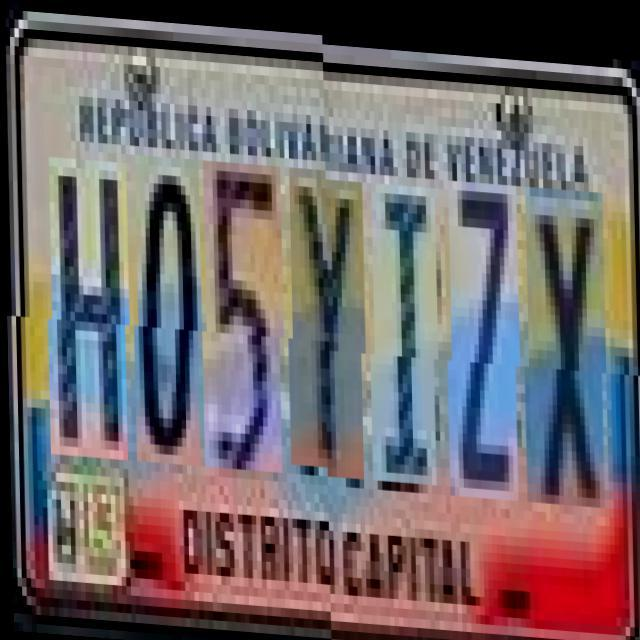5: (203, 167, 285, 478)
H: (48, 165, 130, 468)
I: (370, 176, 440, 478)
O: (134, 162, 203, 472)
X: (524, 178, 608, 498)
Y: (289, 172, 367, 474)
Z: (448, 172, 522, 492)
